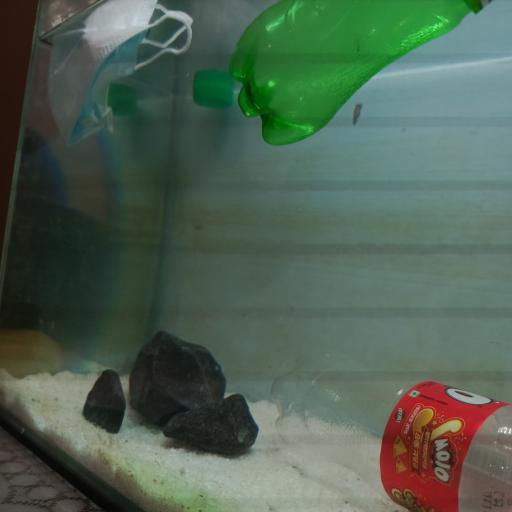bottle_cap: (193, 83, 235, 108)
mask: (50, 2, 194, 144)
plastic_bottle: (273, 345, 512, 512), (230, 1, 492, 147)
